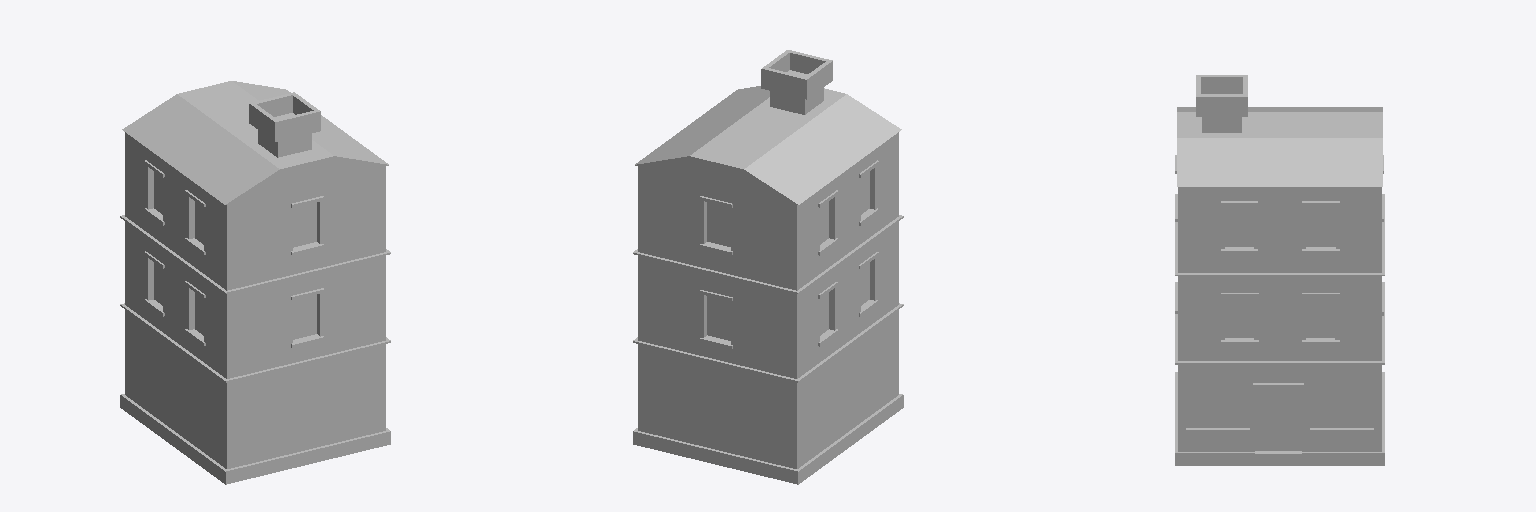
The model's file is Building.obj.
3 renders of one model, left to right at view 1: azimuth 30°, elevation 25°; view 2: azimuth 150°, elevation 25°; view 3: azimuth 270°, elevation 25°, orthographic.
Visible parts, largest first — view 1: Building_1, Chimeney_1, Null, Cube.5, Cube.4, Cube.8, Cube.6, Cube.9, Cube.7; view 2: Building_1, Chimeney_1, Null, Cube.10, Cube.11, Cube.8, Cube.6, Cube.9, Cube.7; view 3: Building_1, Cube_2, Chimeney_1, Null, Cube, Cube_1, Cube.2, Cube.3, Cube.1, Cube_3.
Part boxes in pixels (x1,y1,x2,y2): Building_1: (120, 81, 390, 484); Chimeney_1: (249, 92, 320, 157); Null: (144, 160, 324, 347); Cube.5: (293, 294, 319, 339); Cube.4: (293, 202, 319, 247); Cube.8: (148, 167, 162, 214); Cube.6: (148, 258, 162, 305); Cube.9: (189, 197, 203, 244); Cube.7: (189, 288, 203, 335); Building_1: (633, 86, 903, 484); Chimeney_1: (761, 50, 832, 114); Null: (699, 160, 878, 349); Cube.10: (704, 201, 730, 246); Cube.11: (704, 295, 730, 340); Cube.8: (820, 197, 834, 244); Cube.6: (820, 288, 834, 335); Cube.9: (861, 168, 874, 214); Cube.7: (861, 259, 874, 305); Building_1: (1175, 107, 1384, 465); Cube_2: (1255, 388, 1301, 453); Chimeney_1: (1196, 75, 1247, 132); Null: (1175, 155, 1383, 387); Cube: (1310, 402, 1373, 429); Cube_1: (1186, 402, 1249, 429); Cube.2: (1306, 206, 1335, 246); Cube.3: (1225, 206, 1253, 246); Cube.1: (1225, 298, 1253, 337); Cube_3: (1306, 298, 1334, 337).
Size of the model in its own units: 264 by 516 by 289.